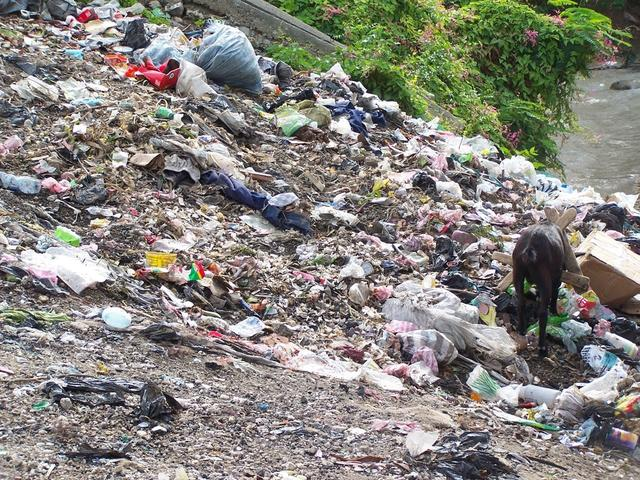garbage: (11, 44, 259, 381), (289, 121, 492, 361)
